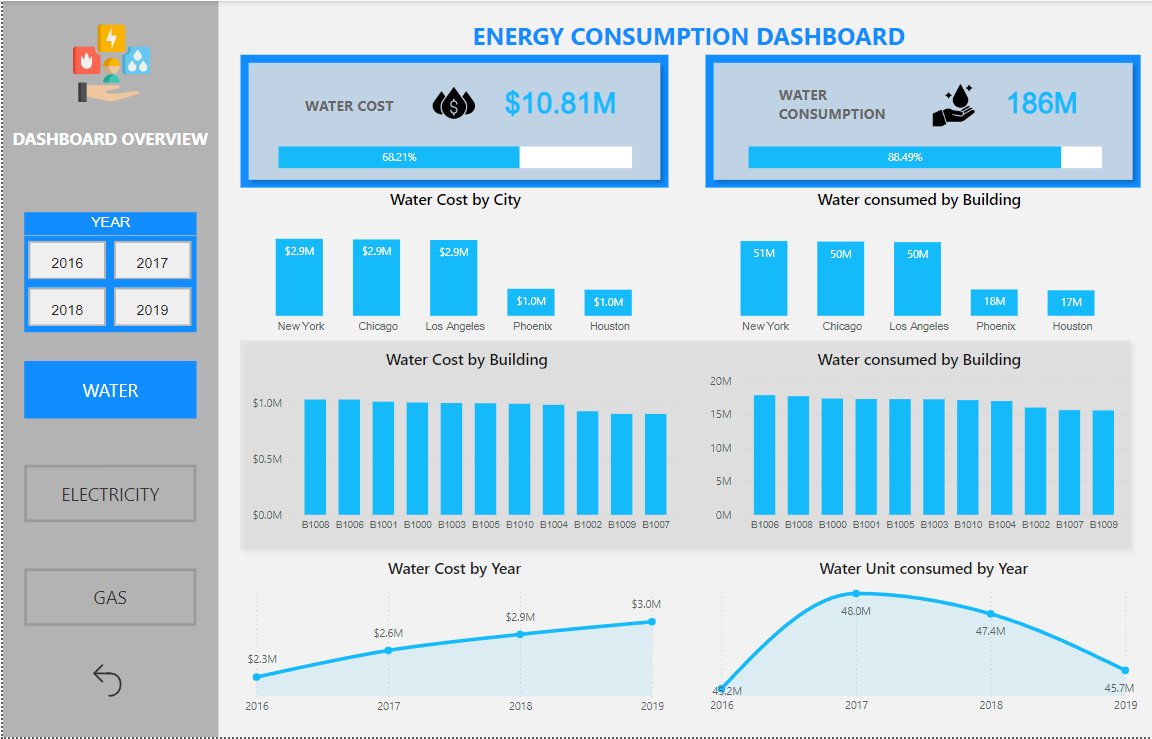

The dashboard page shown, as its layout file describes it:
{"tool":"powerbi","page":{"name":"WATER","canvas":[1280,820],"ordinal":1},"visuals":[{"type":"shape","title":"Total Cost","box":[782.9,60.4,484.9,148.3],"z":0},{"type":"shape","title":"Total Cost","box":[265.1,60.4,476.6,148.3],"z":1000},{"type":"shape","box":[254.8,368.9,1010.7,250.6],"z":2000},{"type":"shape","box":[0,0,240.4,820],"z":3000},{"type":"image","box":[66.3,15.7,108.5,108.5],"z":4000},{"type":"areaChart","fields":{"Category":["Energy Consumptions.Year"],"Y":["All Measures.Water Cost"]},"box":[265.1,619.5,476.6,184.1],"z":5000},{"type":"areaChart","fields":{"Category":["Energy Consumptions.Year"],"Y":["All Measures.Water Unit consumed"]},"box":[782.4,619.5,485.9,183.8],"z":6000},{"type":"columnChart","fields":{"Category":["Energy Consumptions.Building"],"Y":["All Measures.Water Cost"]},"box":[272.9,387,487.3,214.4],"z":7000},{"type":"clusteredColumnChart","title":"Water consumed by Building","fields":{"Category":["Energy Consumptions.Building"],"Y":["All Measures.Water Unit consumed"]},"box":[782.4,387,476.1,214.4],"z":8000},{"type":"columnChart","fields":{"Y":["All Measures.Water Cost"],"Category":["Building Master.City"]},"box":[264.5,208.8,478.9,172],"z":9000},{"type":"clusteredColumnChart","title":"Water consumed by Building","fields":{"Y":["All Measures.Water Unit consumed"],"Category":["Building Master.City"]},"box":[782.4,208.8,476.1,172],"z":10000},{"type":"card","fields":{"Values":["All Measures.Water Cost"]},"box":[501.2,75.2,239.5,76.6],"z":11000},{"type":"card","fields":{"Values":["All Measures.Water Unit consumed"]},"box":[1037.2,75.2,239.5,76.6],"z":12000},{"type":"hundredPercentStackedBarChart","fields":{"Y":["All Measures.Water Cost","All Measures.Water Cost left"]},"box":[302.2,116.8,403.8,108.5],"z":13000},{"type":"hundredPercentStackedBarChart","fields":{"Y":["All Measures.Water Unit consumed","All Measures.Water Unit consumed left"]},"box":[825.5,116.8,403.8,108.5],"z":14000},{"type":"textbox","box":[331.3,100.2,139.2,39],"z":15000},{"type":"textbox","box":[859,87.7,178.2,64],"z":16000},{"type":"textbox","box":[584.9,15.3,438.7,62.7],"z":17000},{"type":"image","box":[1027.4,87.7,62.6,57.1],"z":18000},{"type":"image","box":[470.6,84.9,62.6,57.1],"z":19000},{"type":"textbox","box":[5.6,135,235.3,69.6],"z":20000},{"type":"actionButton","box":[23.2,401.1,191.8,63.9],"z":21000},{"type":"actionButton","box":[23.2,516.9,191.8,63.9],"z":22000},{"type":"actionButton","box":[23.2,632.7,191.8,63.9],"z":23000},{"type":"actionButton","box":[91.9,732.3,64,48.7],"z":24000},{"type":"advancedSlicerVisual","title":"YEAR","fields":{"Values":["Energy Consumptions.Year"]},"box":[23.7,235.3,192.1,133.7],"z":25000}]}

Visuals, with their boxes in screenshot pixels (x1, y1, x2, y2), scaled from the page's 1280x820 canvas onto the 1152x739 screenshot:
"Total Cost" shape: bbox=(705, 54, 1141, 188)
"Total Cost" shape: bbox=(239, 54, 668, 188)
shape: bbox=(229, 332, 1139, 558)
shape: bbox=(0, 0, 216, 738)
image: bbox=(60, 14, 157, 112)
areaChart - Energy Consumptions.Year x All Measures.Water Cost: bbox=(239, 558, 668, 724)
areaChart - Energy Consumptions.Year x All Measures.Water Unit consumed: bbox=(704, 558, 1141, 724)
columnChart - Energy Consumptions.Building x All Measures.Water Cost: bbox=(246, 349, 684, 542)
"Water consumed by Building" clusteredColumnChart: bbox=(704, 349, 1133, 542)
columnChart - All Measures.Water Cost x Building Master.City: bbox=(238, 188, 669, 343)
"Water consumed by Building" clusteredColumnChart: bbox=(704, 188, 1133, 343)
card - All Measures.Water Cost: bbox=(451, 68, 667, 137)
card - All Measures.Water Unit consumed: bbox=(933, 68, 1149, 137)
hundredPercentStackedBarChart - All Measures.Water Cost x All Measures.Water Cost left: bbox=(272, 105, 635, 203)
hundredPercentStackedBarChart - All Measures.Water Unit consumed x All Measures.Water Unit consumed left: bbox=(743, 105, 1106, 203)
textbox: bbox=(298, 90, 423, 125)
textbox: bbox=(773, 79, 933, 137)
textbox: bbox=(526, 14, 921, 70)
image: bbox=(925, 79, 981, 130)
image: bbox=(424, 77, 480, 128)
textbox: bbox=(5, 122, 217, 184)
actionButton: bbox=(21, 361, 194, 419)
actionButton: bbox=(21, 466, 194, 523)
actionButton: bbox=(21, 570, 194, 628)
actionButton: bbox=(83, 660, 140, 704)
"YEAR" advancedSlicerVisual: bbox=(21, 212, 194, 333)
